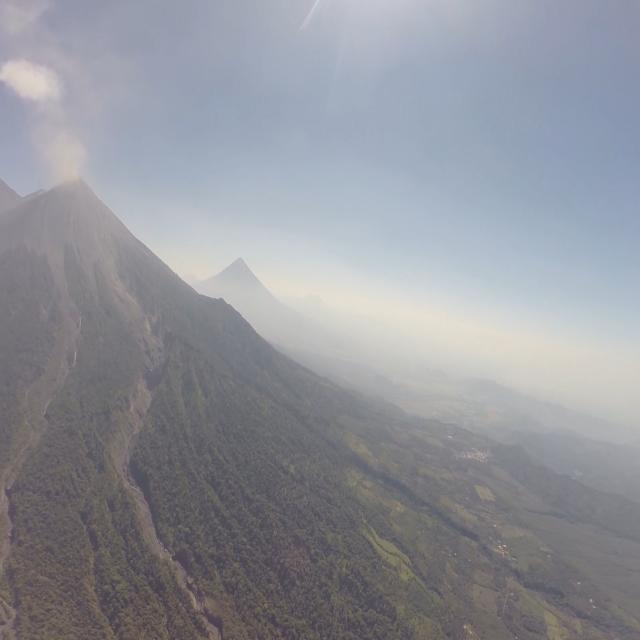Plume: (32, 127, 88, 187), (0, 56, 60, 104)
Summit: (38, 166, 101, 202)
